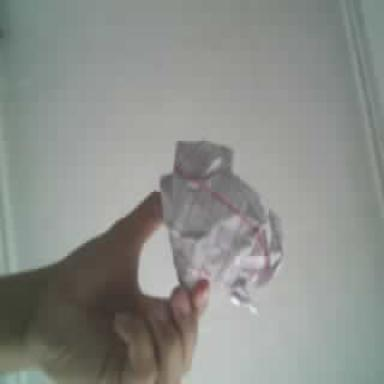paper: (161, 141, 281, 310)
